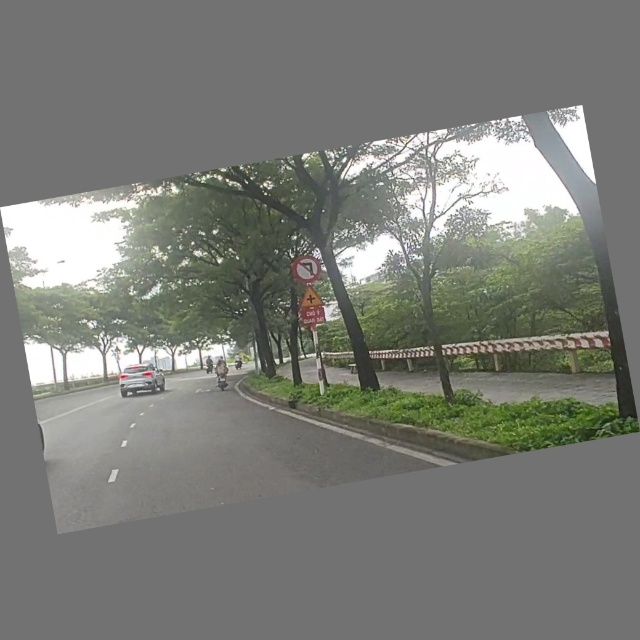P.123a: (292, 251, 325, 287)
W.205a: (291, 280, 328, 312)
